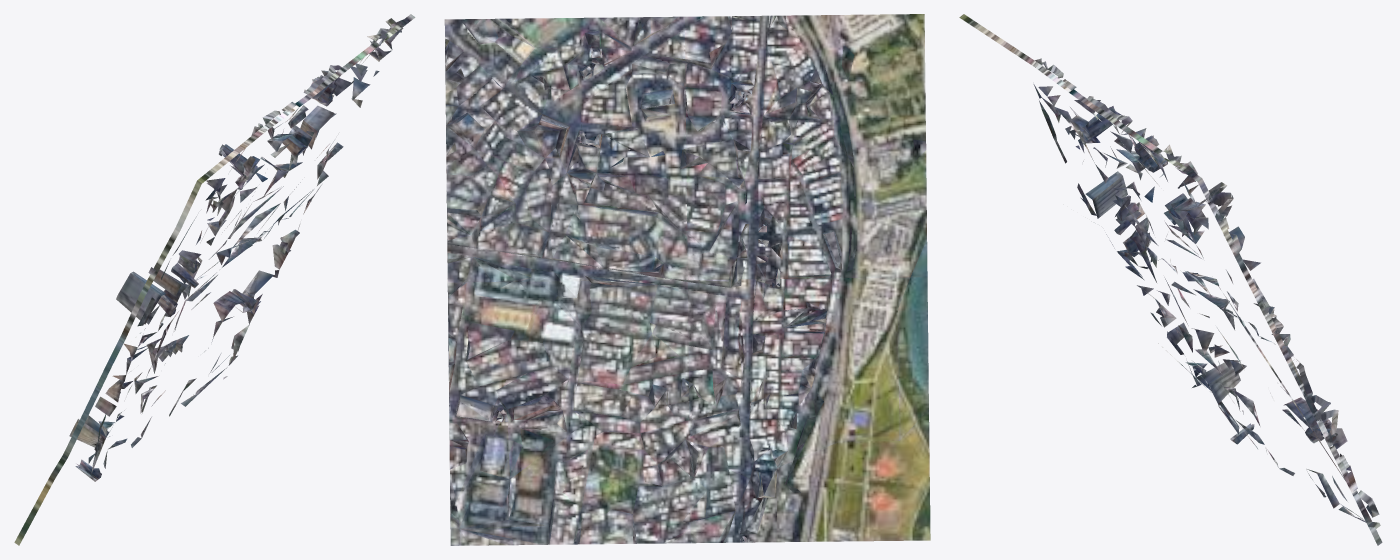
3 views of the same model, side by side, from view 1: azimuth 30°, elevation 25°; view 2: azimuth 150°, elevation 25°; view 3: azimuth 270°, elevation 25° (orthographic). The views are drawn at different scales.
Size of the model in its own units: 1222 by 1120 by 1038.
Materials: 2 (2 with a texture image).
